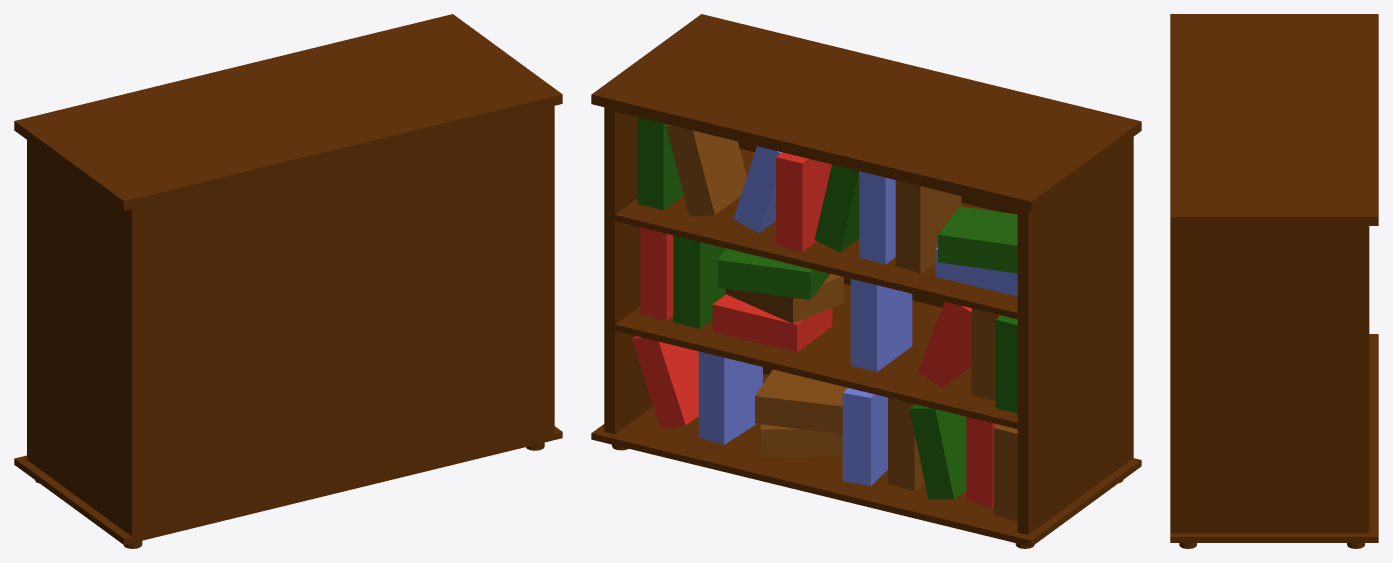
File: prop_kirjahylly_kirjoilla.fbx
3 views of the same model, side by side, from view 1: azimuth 30°, elevation 25°; view 2: azimuth 150°, elevation 25°; view 3: azimuth 270°, elevation 25° (orthographic). The views are drawn at different scales.
Visible parts, largest first — view 1: Cube.028; view 2: Cube.028; view 3: Cube.028.
Boxes of the visible parts, bbox=[...] form: Cube.028: bbox=[14, 14, 562, 548]; Cube.028: bbox=[591, 14, 1141, 548]; Cube.028: bbox=[1170, 14, 1378, 548].
Size of the model in its own units: 270 by 209 by 117.
